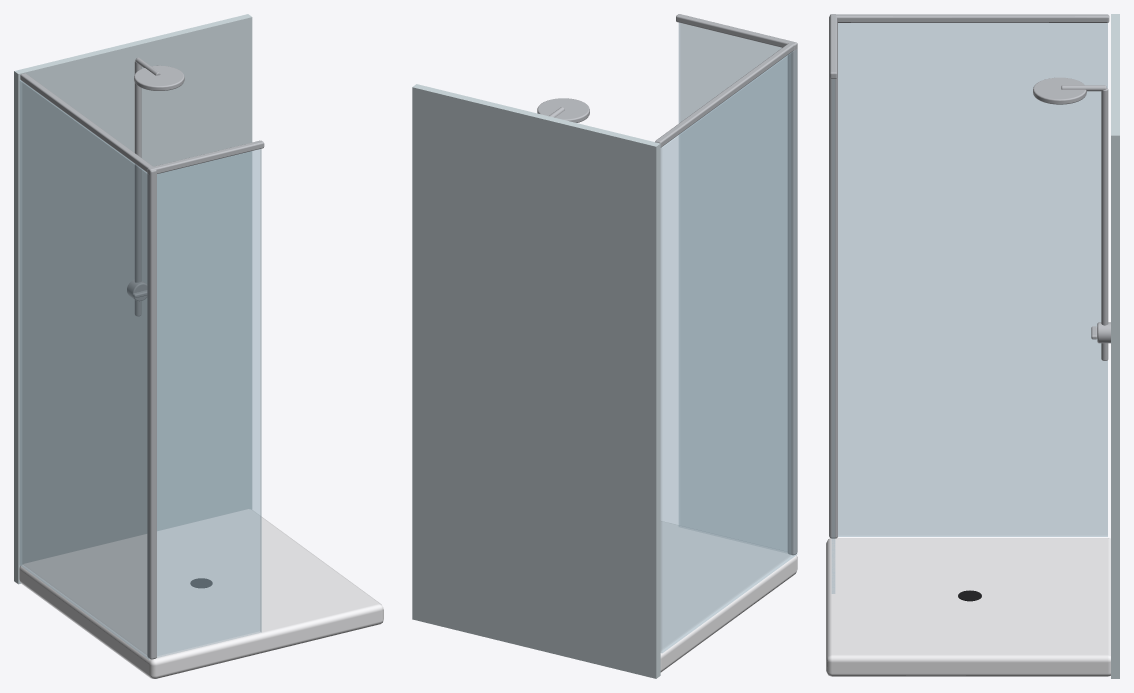
The model's file is shower_basic.glb.
The picture shows the model from 3 angles, left to right: view 1: azimuth 30°, elevation 25°; view 2: azimuth 150°, elevation 25°; view 3: azimuth 270°, elevation 25°; orthographic projection. The views are drawn at different scales.
Visible parts, largest first — view 1: Cube.001, Cube.002, Cube.003, Cube, Cube.004, Cylinder.001, Cube.006, Cube.005, Cylinder.003; view 2: Cube.001, Cube.002, Cube.003, Cube, Cube.004, Cube.006, Cube.005, Cylinder.003; view 3: Cube.002, Cube, Cube.001, Cube.004, Cube.006, Cylinder.001, Cube.003, Cylinder.003, Cube.005.
Part boxes in pixels (x1=…): Cube.001: x1=14, y1=14, x2=252, y2=584; Cube.002: x1=19, y1=80, x2=149, y2=659; Cube.003: x1=157, y1=149, x2=261, y2=657; Cube: x1=19, y1=509, x2=383, y2=678; Cube.004: x1=147, y1=170, x2=156, y2=659; Cylinder.001: x1=134, y1=60, x2=141, y2=316; Cube.006: x1=20, y1=73, x2=153, y2=172; Cube.005: x1=147, y1=140, x2=264, y2=173; Cylinder.003: x1=134, y1=65, x2=184, y2=90; Cube.001: x1=412, y1=84, x2=660, y2=678; Cube.002: x1=660, y1=49, x2=797, y2=653; Cube.003: x1=678, y1=22, x2=787, y2=551; Cube: x1=660, y1=521, x2=797, y2=672; Cube.004: x1=787, y1=45, x2=797, y2=555; Cube.006: x1=655, y1=42, x2=794, y2=147; Cube.005: x1=676, y1=14, x2=797, y2=47; Cylinder.003: x1=537, y1=98, x2=589, y2=122; Cube.002: x1=838, y1=23, x2=1107, y2=536; Cube: x1=826, y1=538, x2=1110, y2=676; Cube.001: x1=1111, y1=14, x2=1119, y2=678; Cube.004: x1=829, y1=16, x2=837, y2=538; Cube.006: x1=832, y1=14, x2=1109, y2=22; Cylinder.001: x1=1101, y1=87, x2=1108, y2=360; Cube.003: x1=831, y1=79, x2=835, y2=593; Cylinder.003: x1=1033, y1=77, x2=1086, y2=104; Cube.005: x1=830, y1=14, x2=837, y2=78.
Size of the model in its own units: 0.961 by 2 by 0.98.
